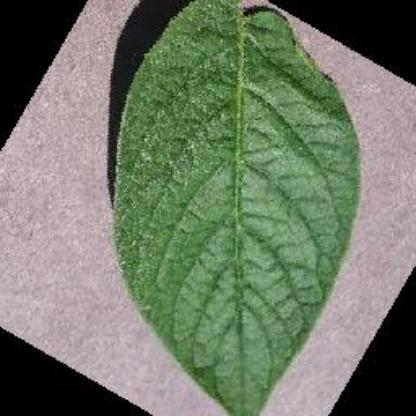Healthy-plant: (96, 0, 370, 416)
